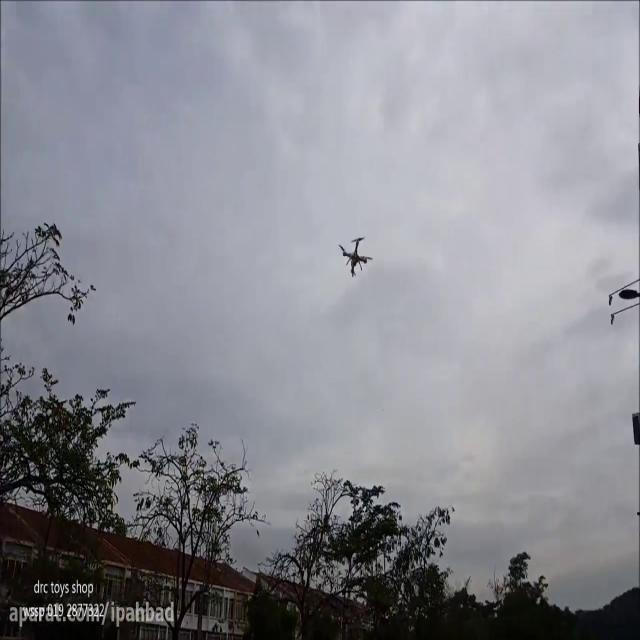drone: (338, 235, 373, 281)
